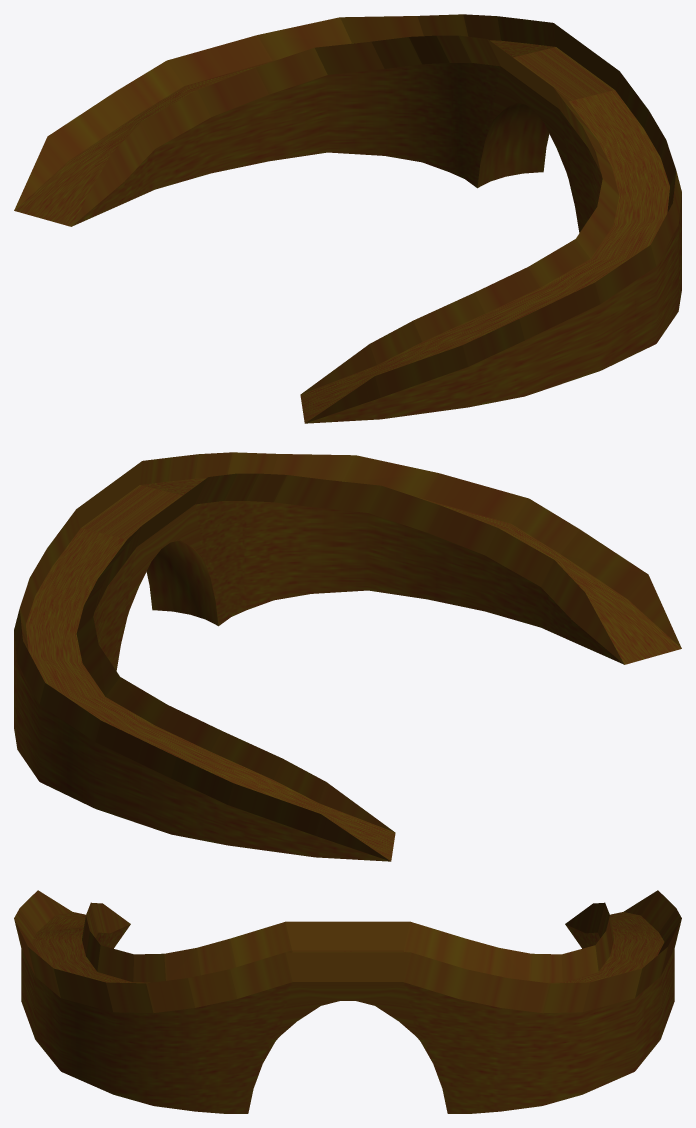
Rendered from Slope.FBX.
3 renders of one model, top to bottom at view 1: azimuth 30°, elevation 25°; view 2: azimuth 150°, elevation 25°; view 3: azimuth 270°, elevation 25°, orthographic. The views are drawn at different scales.
Parts seen in each view (by area): view 1: Box001; view 2: Box001; view 3: Box001.
Part boxes in pixels (x1=…): Box001: x1=14, y1=14, x2=681, y2=423; Box001: x1=14, y1=452, x2=681, y2=861; Box001: x1=14, y1=890, x2=681, y2=1113.
Bounding box in the file's own units: 147 × 53.46 × 206.
1 material, 1 textured.
